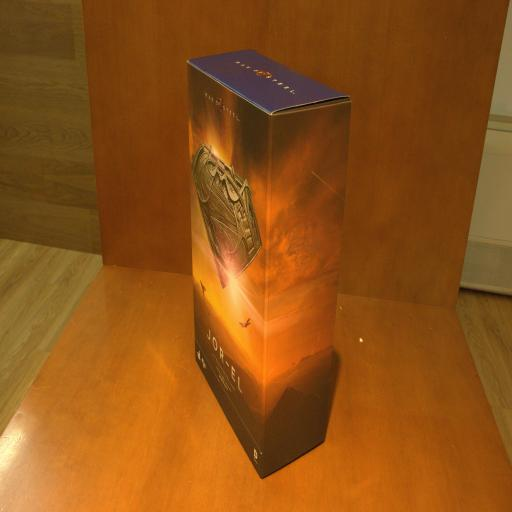superman: (189, 47, 350, 475)
